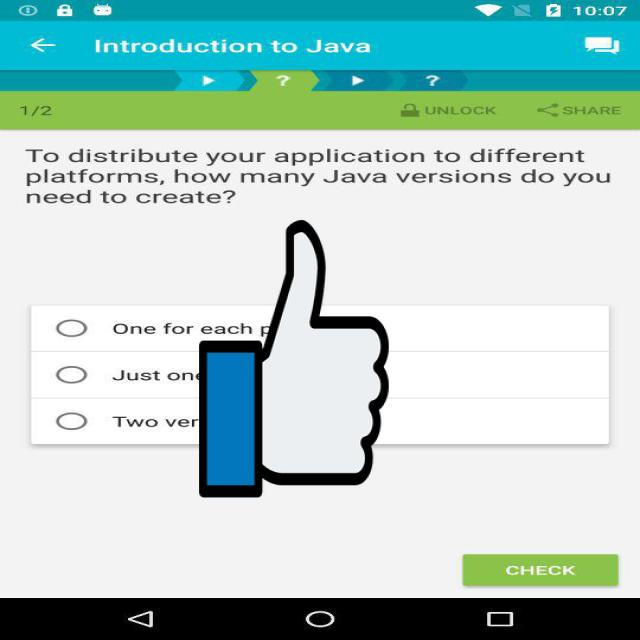privacy zuckering: (199, 214, 389, 503)
